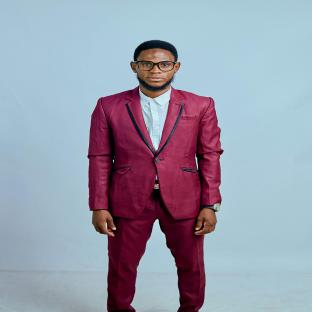Human: (88, 40, 223, 312)
